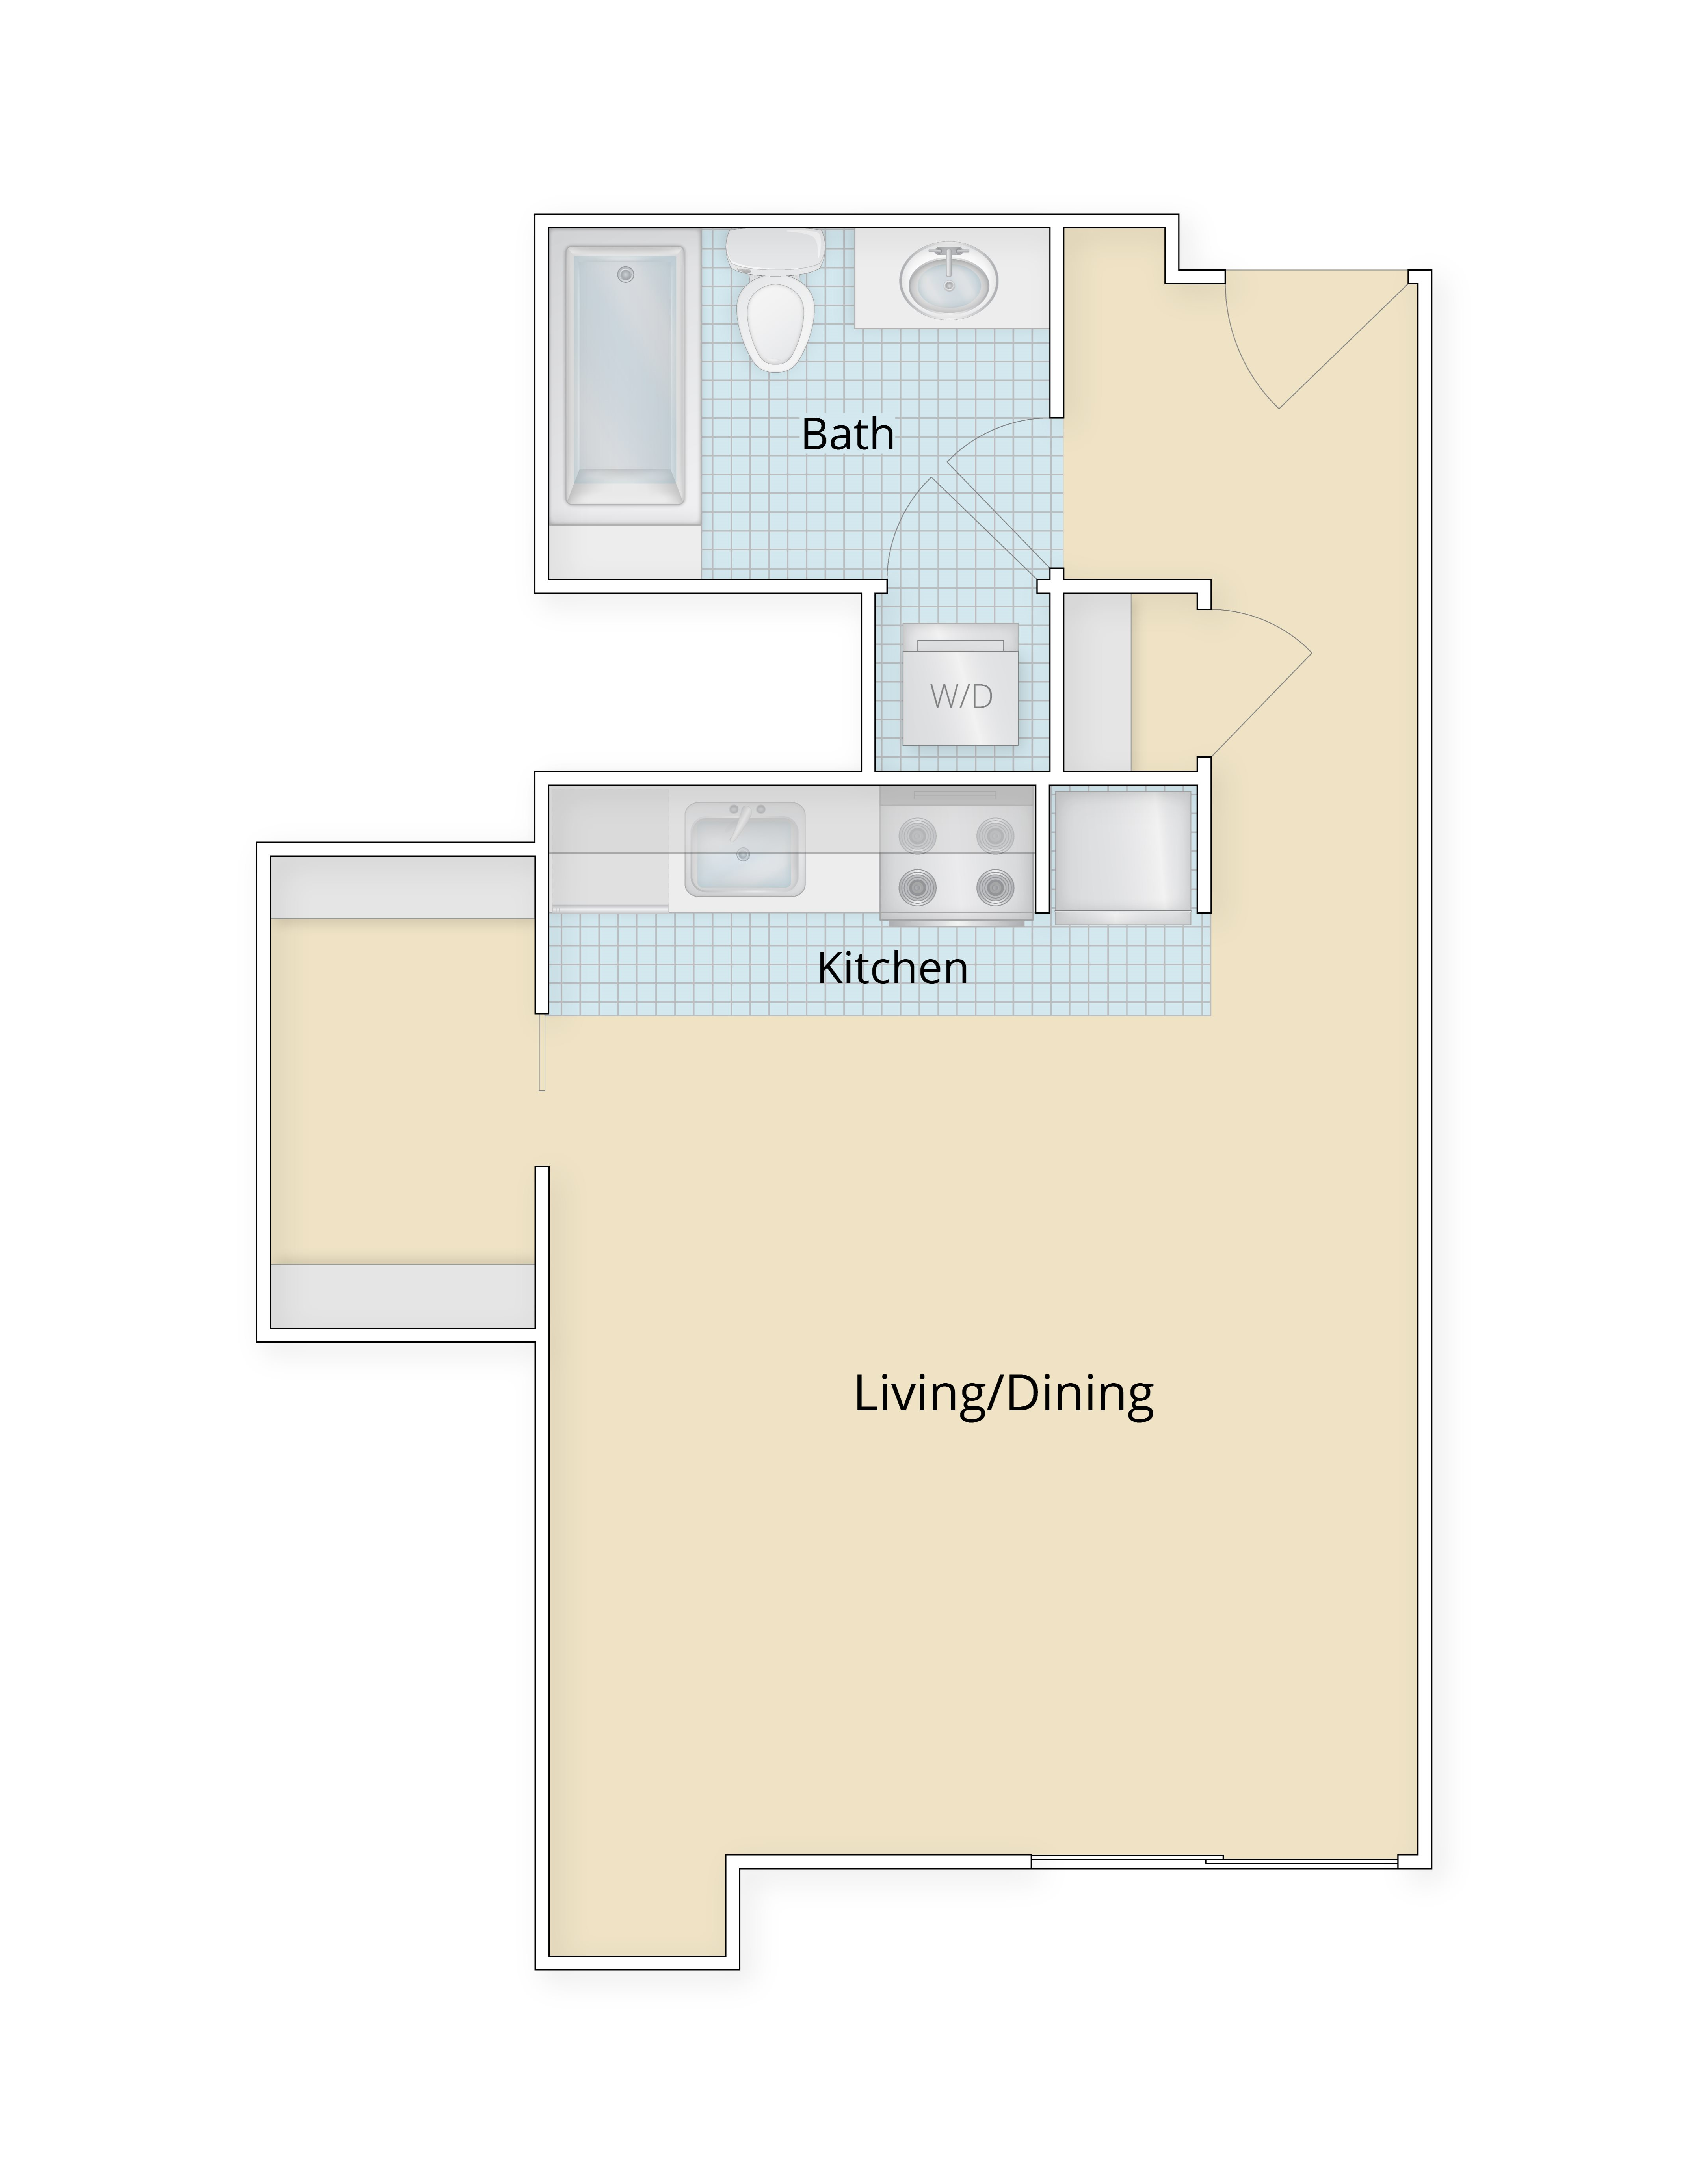room: (527, 1014, 1440, 1876), (551, 218, 1075, 590), (527, 769, 1225, 1005), (252, 840, 551, 1338)
